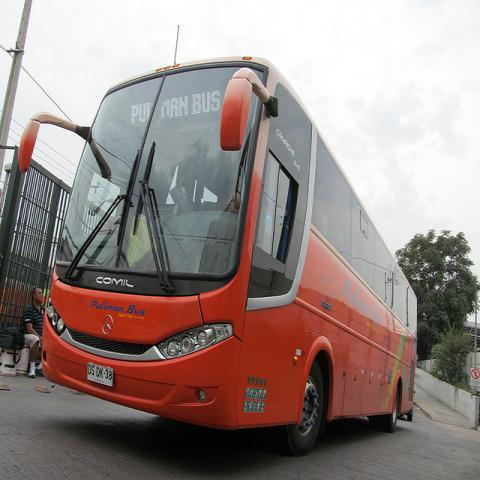bus: (17, 56, 420, 459)
